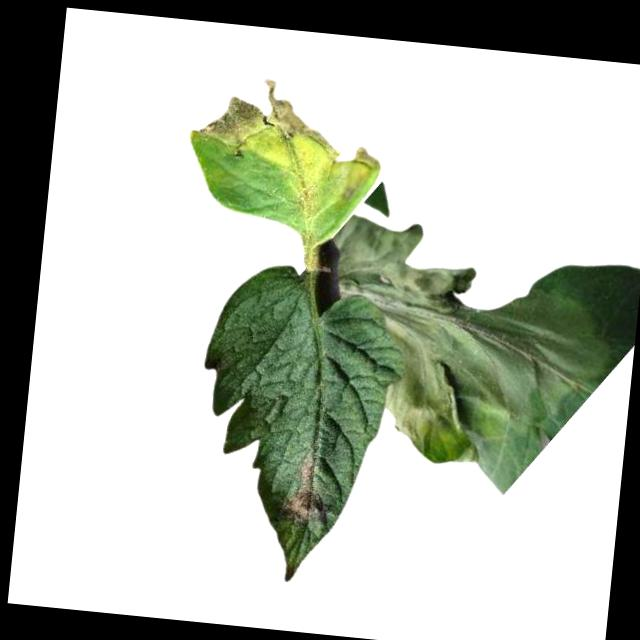Late_blight: (322, 221, 625, 470), (191, 72, 378, 221), (283, 452, 332, 531)
